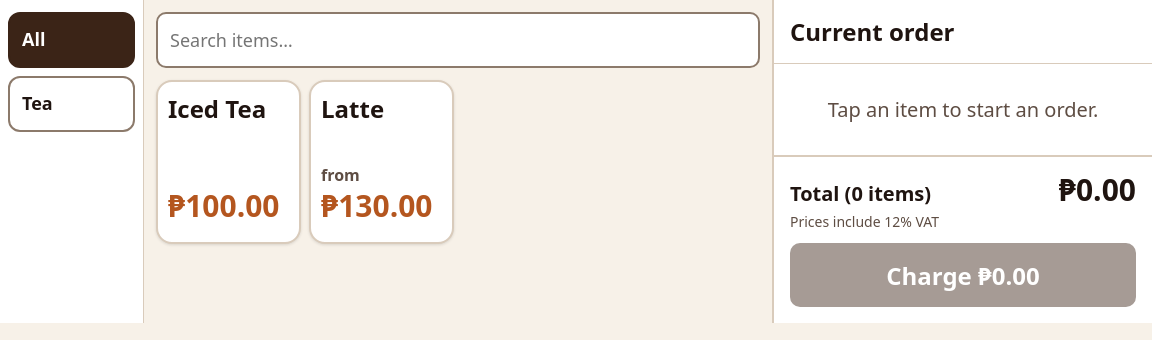
PosPage › clears the search with the clear button
In the search field labelled "Search items": (458, 40) [156,12,760,68], type "lat"
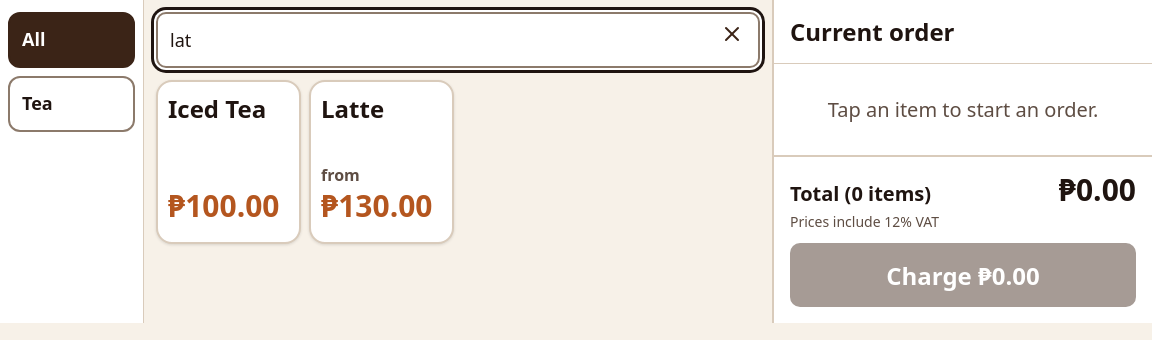
Click the button named "Clear search": (732, 34) [708,10,756,58]
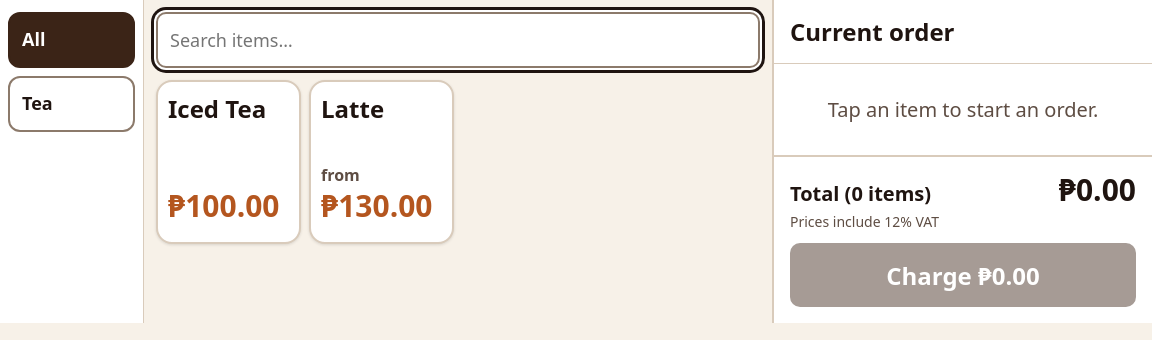
Expected: the search field labelled "Search items" is empty, [156,12,760,68]
